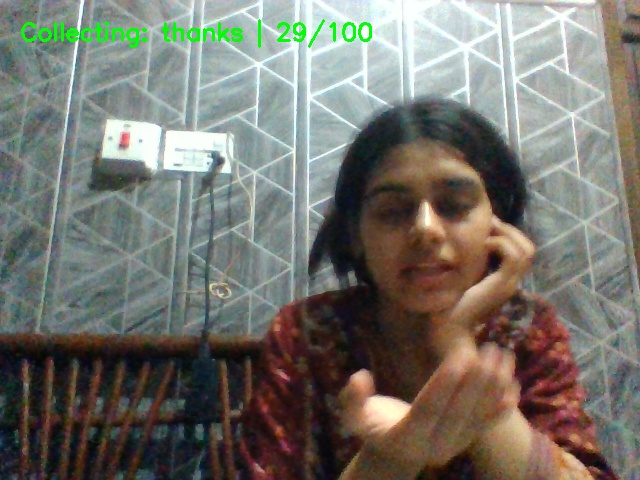thanks: (329, 331, 560, 477)
